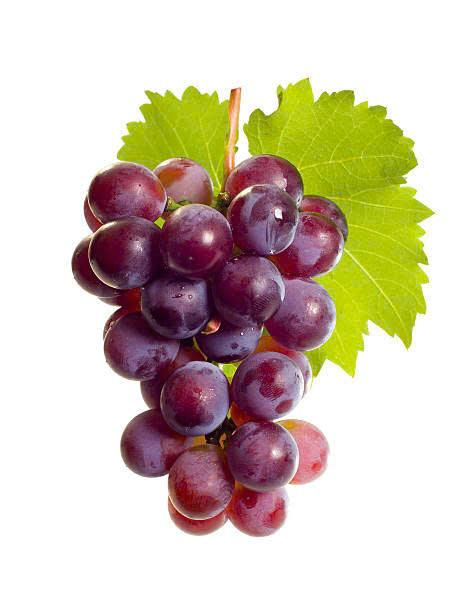grape: (60, 149, 365, 540)
